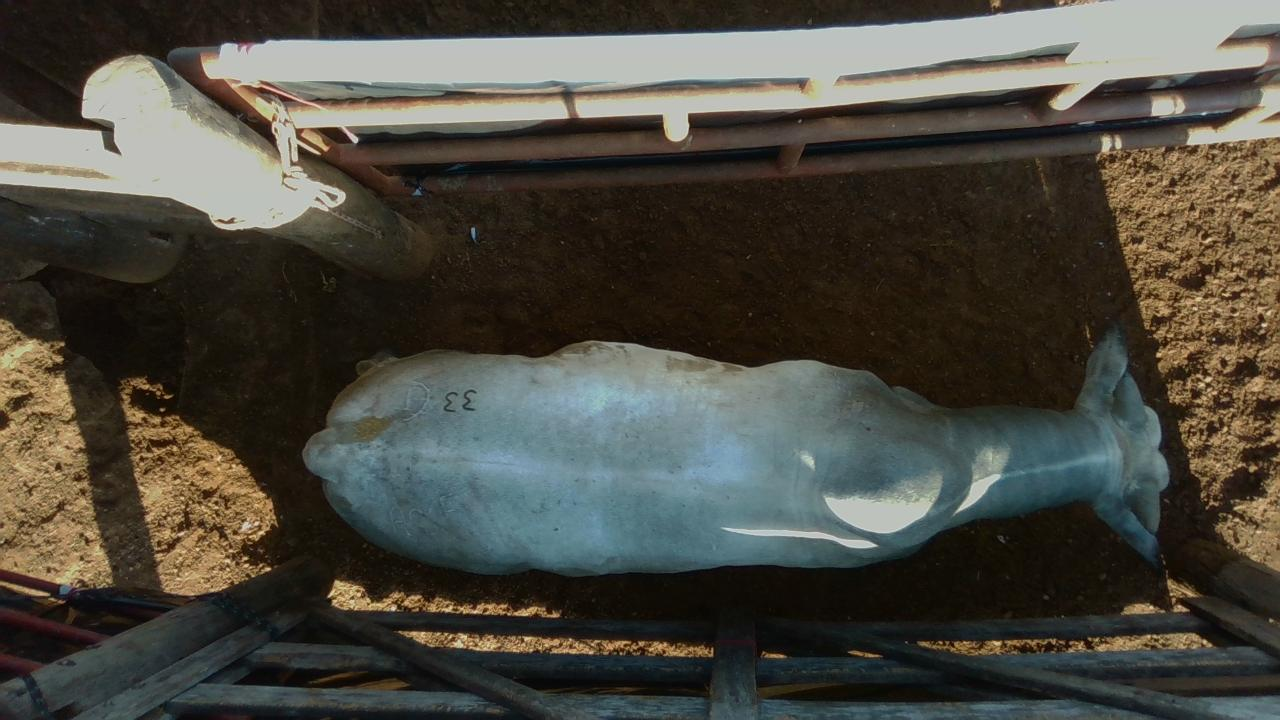cattle: (301, 320, 1171, 578)
